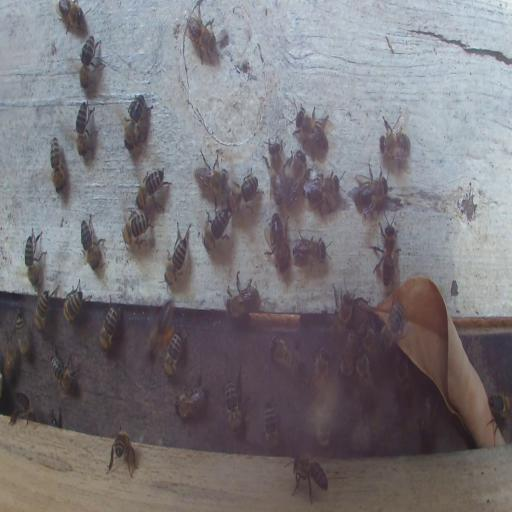bee: (371, 212, 401, 286), (353, 160, 388, 220), (222, 362, 250, 435), (291, 452, 328, 504), (187, 5, 218, 64), (173, 368, 208, 420), (293, 104, 330, 152), (194, 149, 228, 200), (379, 111, 411, 165), (165, 220, 192, 284), (148, 301, 176, 361), (280, 148, 308, 208), (106, 428, 139, 478), (224, 271, 258, 318), (135, 168, 171, 212), (80, 215, 106, 275), (78, 34, 104, 92), (225, 174, 259, 218), (360, 317, 384, 378), (123, 95, 150, 149), (269, 334, 306, 373), (355, 352, 379, 412), (24, 226, 46, 290), (74, 99, 96, 163), (292, 231, 330, 268), (264, 139, 285, 205), (50, 346, 78, 395), (330, 279, 357, 328), (201, 208, 231, 252), (340, 324, 362, 383), (305, 169, 341, 205), (62, 279, 90, 325), (269, 214, 290, 274), (98, 298, 120, 353), (393, 355, 415, 409), (122, 210, 153, 248), (380, 304, 404, 350), (56, 1, 86, 34), (49, 136, 65, 194), (311, 346, 330, 394), (163, 332, 182, 376), (11, 392, 35, 424), (264, 399, 279, 449), (34, 289, 51, 330), (16, 308, 29, 358), (4, 335, 17, 381), (490, 394, 510, 420)
